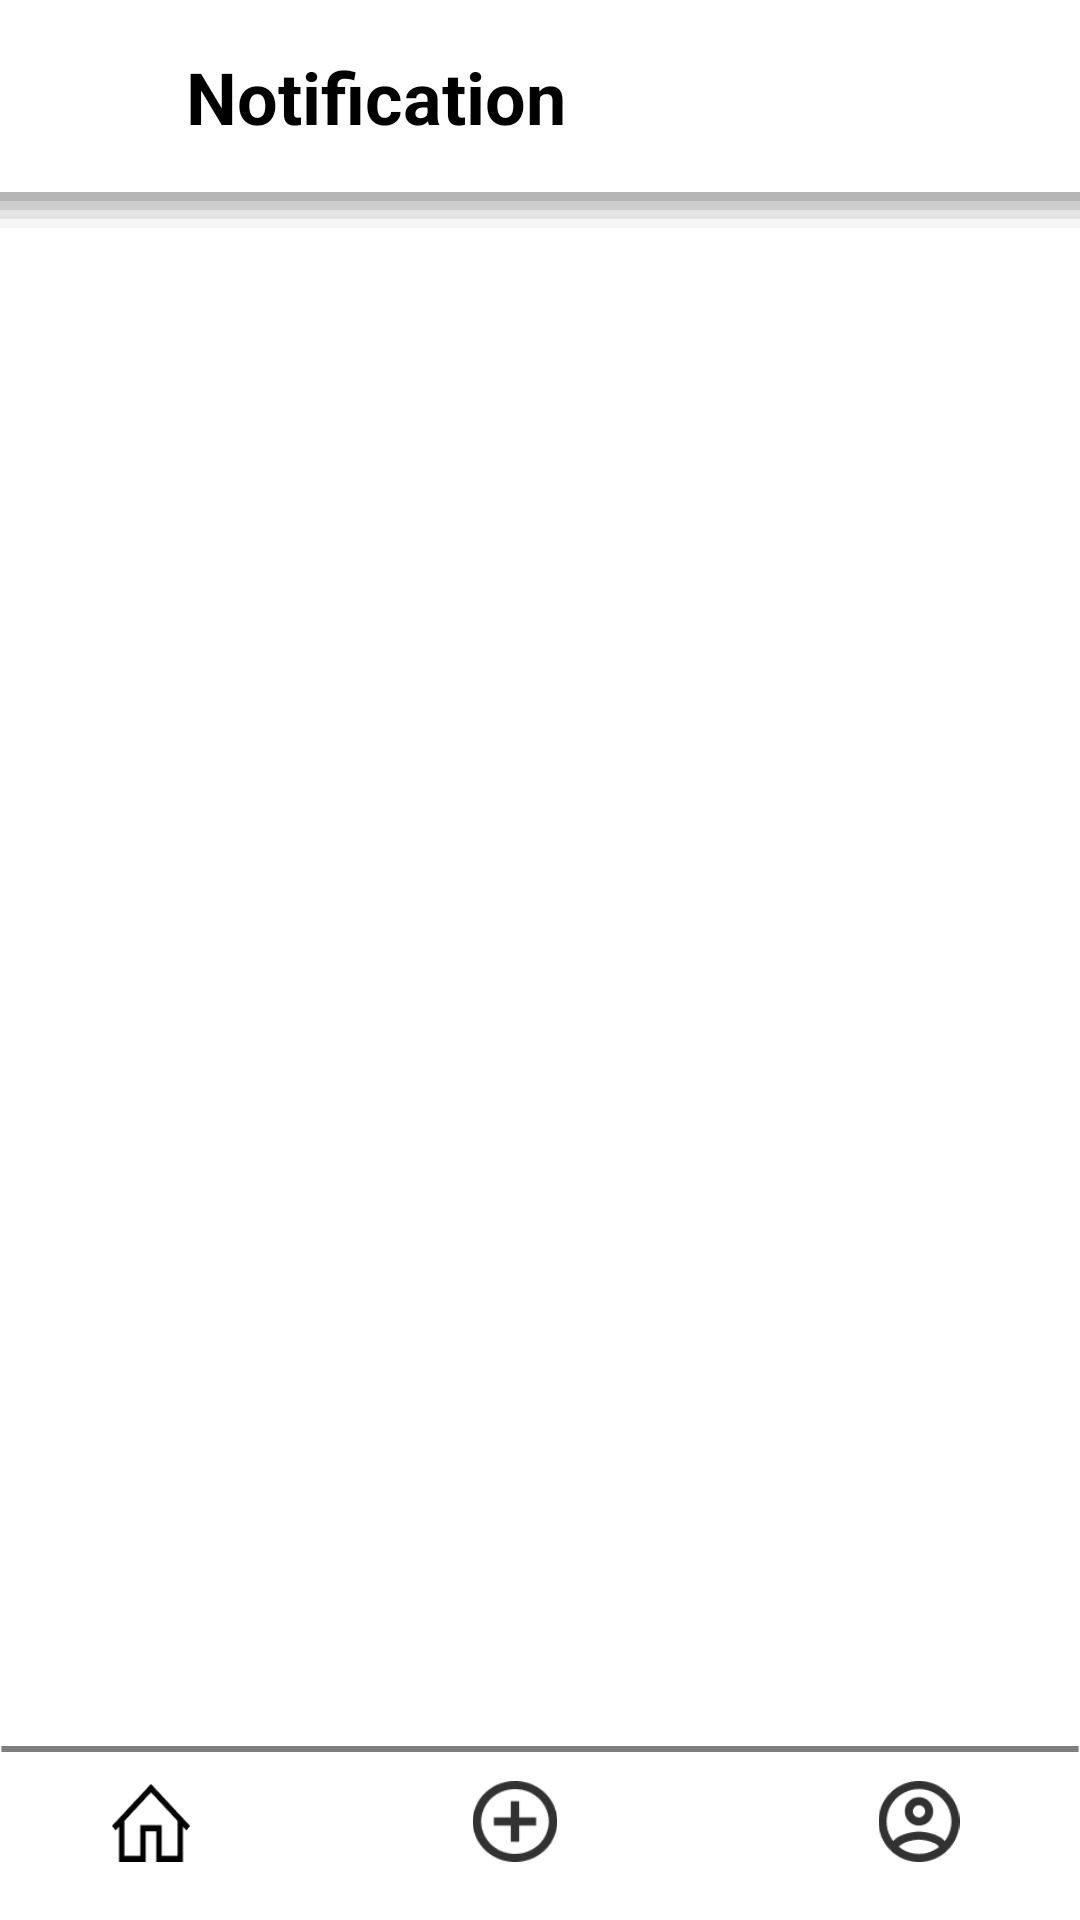

Icons on this 1080w x 1920h Android screen, each with its box as (x1, y1, x2, y2):
home: (112, 1784, 190, 1862)
profile: (879, 1781, 960, 1862)
